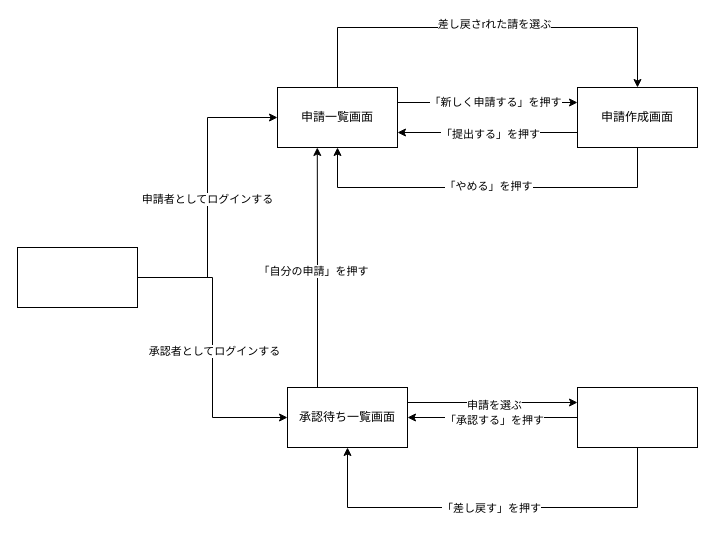
The diagram is 715 pixels wide and 533 high, and some of its shapes have lost their labels. Here are the shapes that lost their labels. From the top down, the centre of each, then its label:
At point (77, 277): "ログイン画面".
At point (637, 417): "申請詳細画面".
